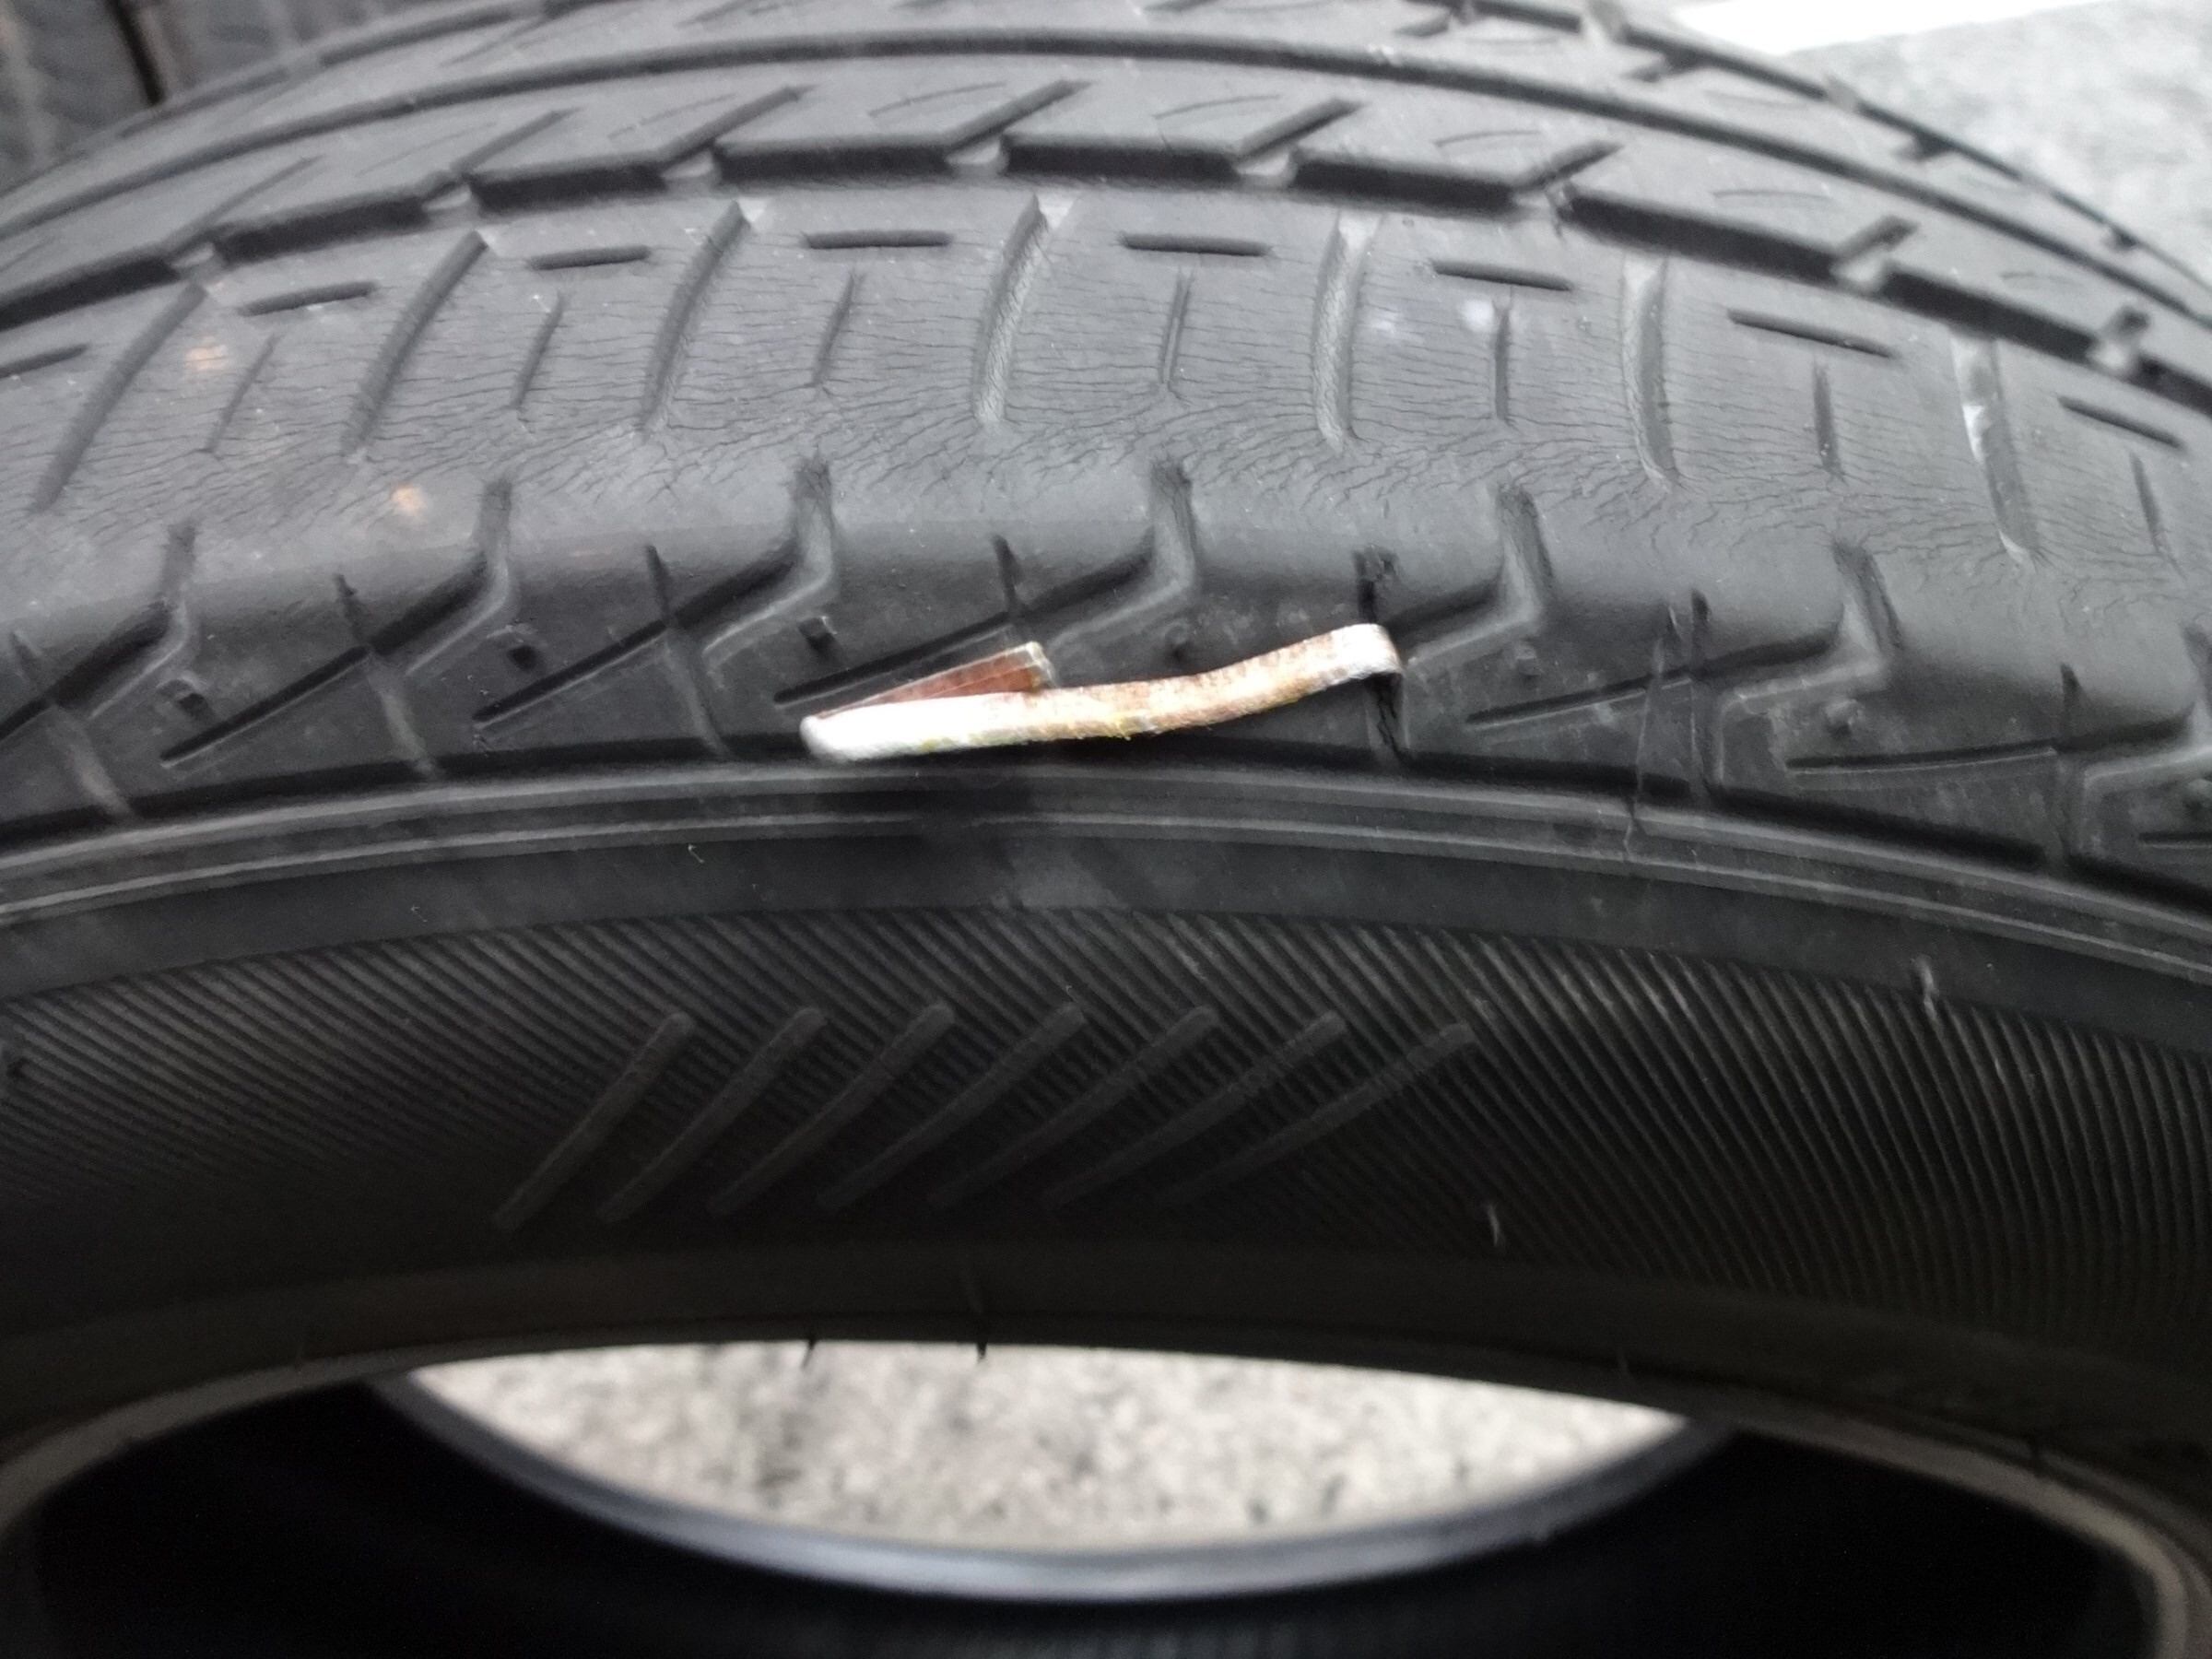person: (659, 541, 1517, 835)
